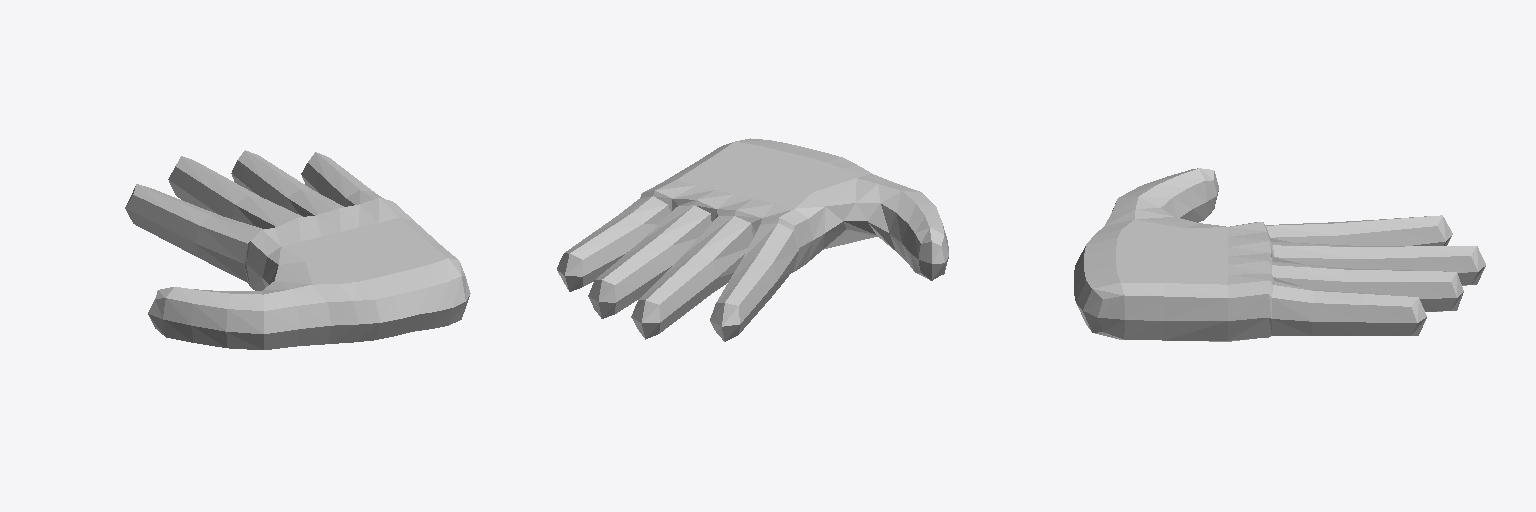
Rendered from handExport.obj.
The picture shows the model from 3 angles: view 1: azimuth 30°, elevation 25°; view 2: azimuth 150°, elevation 25°; view 3: azimuth 270°, elevation 25°; orthographic projection.
Visible parts, largest first — view 1: pCube1; view 2: pCube1; view 3: pCube1.
Part boxes in pixels (left/top/right/bottom): pCube1: left=125, top=150, right=470, bottom=349; pCube1: left=557, top=138, right=948, bottom=341; pCube1: left=1074, top=168, right=1485, bottom=341.
Size of the model in its own units: 193 by 42.79 by 242.